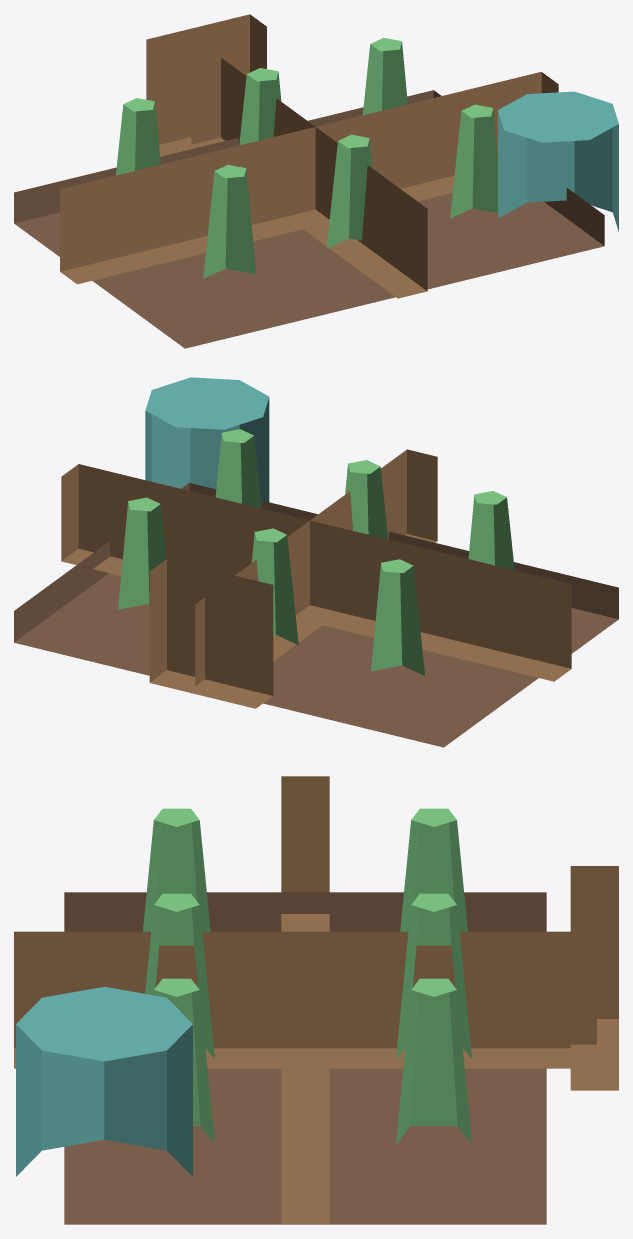
The model's file is building_farm.glb.
3 views of the same model, one above another, from view 1: azimuth 30°, elevation 25°; view 2: azimuth 150°, elevation 25°; view 3: azimuth 270°, elevation 25° (orthographic). The views are drawn at different scales.
Visible parts, largest first — view 1: soil_bed, fence_0, fence_1, water_barrel, gate, crop_-0.5_0.32, crop_0.5_0.32, crop_0_0.32, crop_-0.5_-0.32, crop_0.5_-0.32, crop_0_-0.32; view 2: fence_0, soil_bed, gate, water_barrel, fence_1, crop_-0.5_-0.32, crop_0.5_-0.32, crop_0_-0.32, crop_-0.5_0.32, crop_0.5_0.32, crop_0_0.32; view 3: soil_bed, fence_1, water_barrel, fence_0, crop_0.5_-0.32, gate, crop_-0.5_-0.32, crop_-0.5_0.32, crop_0_-0.32, crop_0_0.32, crop_0.5_0.32.
Boxes of the visible parts, x1,y1,x2,y2 form: soil_bed: (14,90,604,348); fence_0: (60,71,558,284); fence_1: (191,57,427,298); water_barrel: (498,91,618,231); gate: (146,14,266,156); crop_-0.5_0.32: (203,165,255,278); crop_0.5_0.32: (450,104,497,218); crop_0_0.32: (326,134,372,248); crop_-0.5_-0.32: (116,98,160,175); crop_0.5_-0.32: (362,37,407,115); crop_0_-0.32: (239,68,281,145); fence_0: (61,464,571,681); soil_bed: (14,483,618,747); gate: (149,559,273,708); water_barrel: (145,377,269,501); fence_1: (195,449,437,685); crop_-0.5_-0.32: (371,559,424,675); crop_0.5_-0.32: (118,497,166,609); crop_0_-0.32: (251,528,298,644); crop_-0.5_0.32: (468,491,514,570); crop_0.5_0.32: (215,429,261,508); crop_0_0.32: (345,460,388,539); soil_bed: (64,892,546,1224); fence_1: (14,931,596,1068); water_barrel: (16,986,192,1176); fence_0: (281,776,329,1223); crop_0.5_-0.32: (396,978,472,1144); gate: (570,866,618,1090); crop_-0.5_-0.32: (400,808,467,931); crop_-0.5_0.32: (143,808,210,931); crop_0_-0.32: (396,893,472,1059); crop_0_0.32: (145,893,214,1059); crop_0.5_0.32: (153,978,214,1144).
Bounding box in the file's own units: 1.95 × 0.49 × 1.5.
